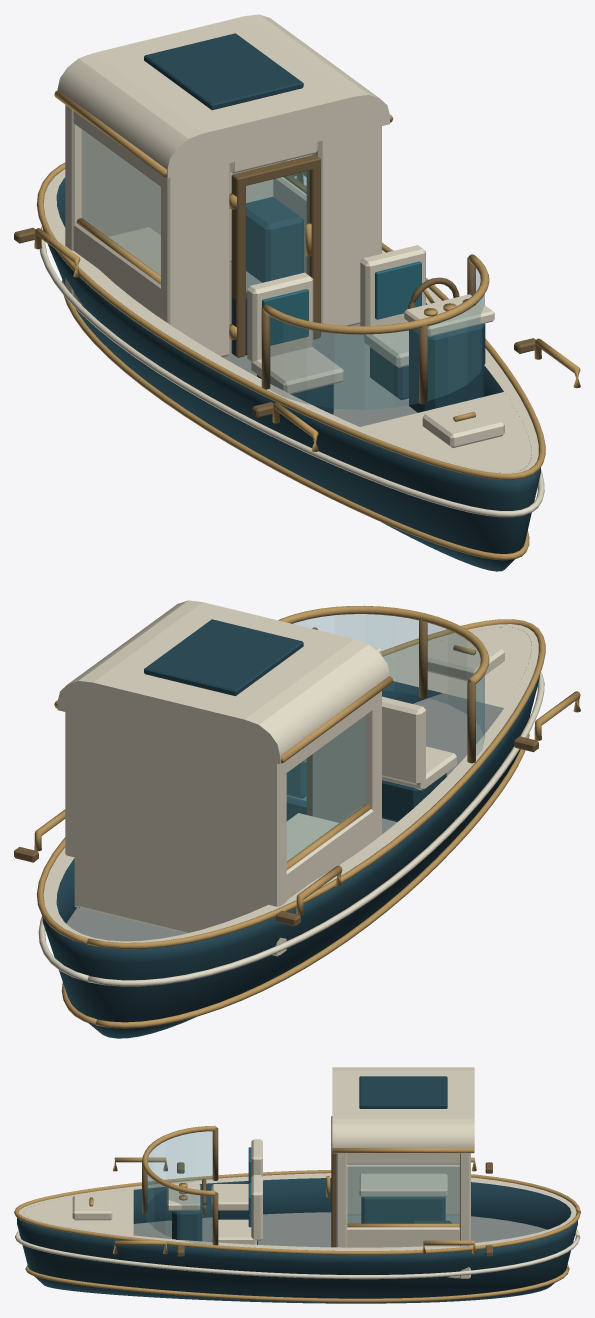
Rendered from harbor_launch.glb.
3 views of the same model, one above another, from view 1: azimuth 30°, elevation 25°; view 2: azimuth 150°, elevation 25°; view 3: azimuth 270°, elevation 25° (orthographic). The views are drawn at different scales.
Visible parts, largest first — view 1: Hollow_navy_hull_shell, Removable_rounded_ivory_cabin_roof, FRONT_door_sidewall.001, FRONT_door_sidewall, LEFT_cabin_glass, Navy_roof_access_panel, Cabin_entry_glass, BACK_cabin_wall, Ivory_walkaround_gunwale, Continuous_rubbing_strake, Ivory_solid_foredeck, Usable_interior_deck (+39 smaller); view 2: BACK_cabin_wall, Hollow_navy_hull_shell, Removable_rounded_ivory_cabin_roof, LEFT_cabin_glass, Navy_roof_access_panel, Ivory_walkaround_gunwale, Continuous_rubbing_strake, Usable_interior_deck, Continuous_rubbing_strake.001, Ivory_solid_foredeck, FRONT_door_sidewall, Continuous_rubbing_strake.002 (+24 smaller); view 3: Hollow_navy_hull_shell, Removable_rounded_ivory_cabin_roof, RIGHT_cabin_glass, Usable_interior_deck, Continuous_rubbing_strake, Ivory_walkaround_gunwale, Navy_roof_access_panel, Continuous_rubbing_strake.001, Continuous_rubbing_strake.002, Ivory_solid_foredeck, LEFT_cabin_lower, RIGHT_cabin_lower (+30 smaller).
Part boxes in pixels (x1,y1,x2,y2): Hollow_navy_hull_shell: [43, 177, 540, 571]; Removable_rounded_ivory_cabin_roof: [57, 14, 389, 178]; FRONT_door_sidewall.001: [312, 128, 372, 332]; FRONT_door_sidewall: [179, 163, 230, 357]; LEFT_cabin_glass: [82, 130, 160, 276]; Navy_roof_access_panel: [144, 33, 303, 110]; Cabin_entry_glass: [246, 170, 309, 293]; BACK_cabin_wall: [84, 133, 276, 261]; Ivory_walkaround_gunwale: [43, 169, 538, 473]; Continuous_rubbing_strake: [36, 163, 545, 479]; Ivory_solid_foredeck: [360, 392, 531, 472]; Usable_interior_deck: [222, 262, 515, 472]; BACK_cabin_wall: [75, 715, 267, 933]; Hollow_navy_hull_shell: [42, 627, 540, 1038]; Removable_rounded_ivory_cabin_roof: [57, 600, 389, 764]; LEFT_cabin_glass: [287, 715, 365, 861]; Navy_roof_access_panel: [144, 619, 303, 696]; Ivory_walkaround_gunwale: [43, 624, 538, 942]; Continuous_rubbing_strake: [36, 619, 545, 949]; Usable_interior_deck: [66, 693, 503, 941]; Continuous_rubbing_strake.001: [38, 672, 544, 986]; Ivory_solid_foredeck: [386, 627, 531, 707]; FRONT_door_sidewall: [312, 717, 363, 822]; Continuous_rubbing_strake.002: [61, 733, 529, 1028]; Hollow_navy_hull_shell: [17, 1178, 577, 1303]; Removable_rounded_ivory_cabin_roof: [332, 1067, 474, 1153]; RIGHT_cabin_glass: [348, 1165, 458, 1223]; Usable_interior_deck: [133, 1212, 546, 1247]; Continuous_rubbing_strake: [14, 1170, 580, 1255]; Ivory_walkaround_gunwale: [18, 1173, 576, 1250]; Navy_roof_access_panel: [359, 1076, 447, 1108]; Continuous_rubbing_strake.001: [15, 1229, 579, 1279]; Continuous_rubbing_strake.002: [25, 1264, 569, 1302]; Ivory_solid_foredeck: [23, 1190, 133, 1235]; LEFT_cabin_lower: [347, 1164, 459, 1215]; RIGHT_cabin_lower: [346, 1227, 459, 1278].
Size of the model in its own units: 3.36 by 3.39 by 8.99.
